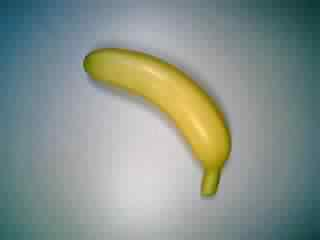banana: (81, 45, 236, 199)
